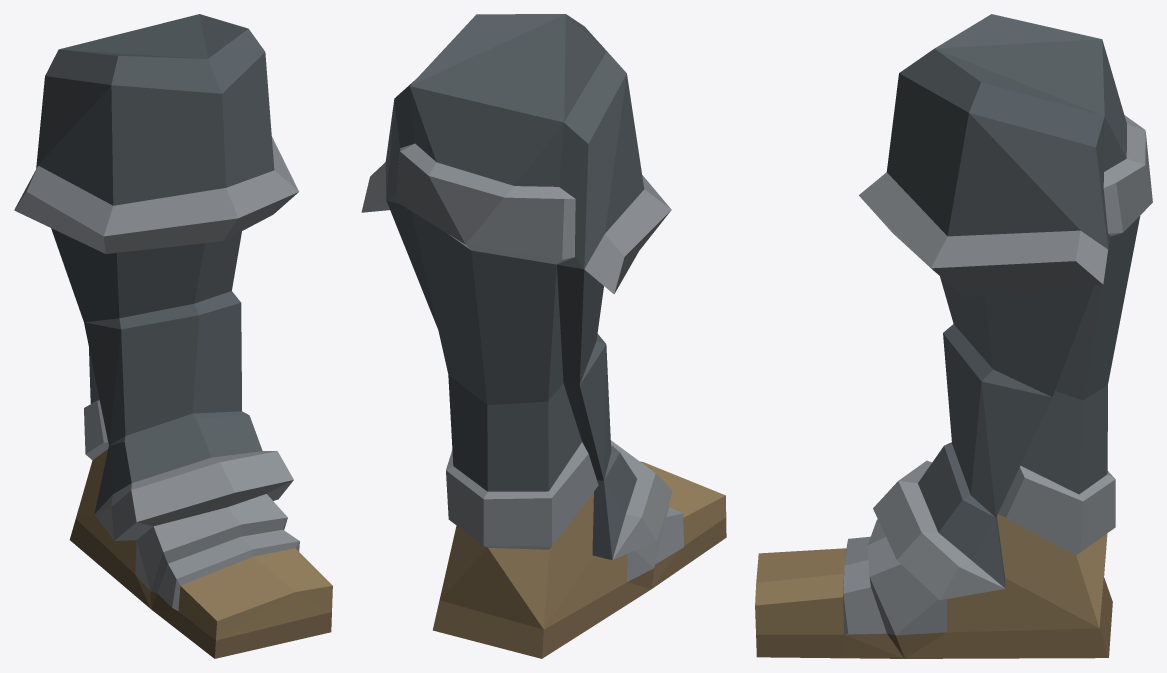
Rendered from Chr_LegLeft_Male_06_Static.fbx.
3 renders of one model, left to right at view 1: azimuth 30°, elevation 25°; view 2: azimuth 150°, elevation 25°; view 3: azimuth 270°, elevation 25°, orthographic. The views are drawn at different scales.
Parts seen in each view (by area): view 1: Chr_LegLeft_Male_06_Static; view 2: Chr_LegLeft_Male_06_Static; view 3: Chr_LegLeft_Male_06_Static.
Part boxes in pixels (x1,y1,x2,y2): Chr_LegLeft_Male_06_Static: [14, 14, 332, 658]; Chr_LegLeft_Male_06_Static: [361, 14, 726, 658]; Chr_LegLeft_Male_06_Static: [755, 14, 1152, 658].
Size of the model in its own units: 0.1914 by 0.4048 by 0.2496.
